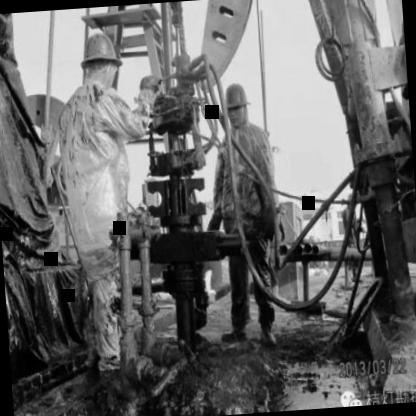helmet: (72, 18, 128, 102), (223, 78, 252, 130)
